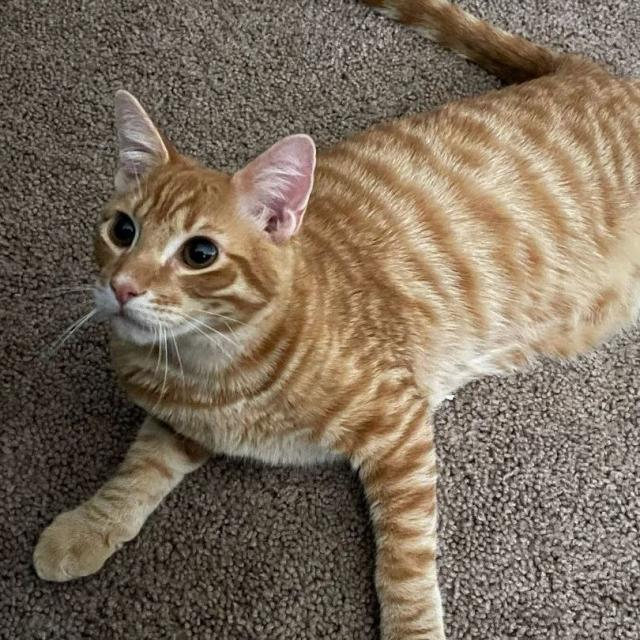american_shorthair_cat: (80, 80, 330, 370)
